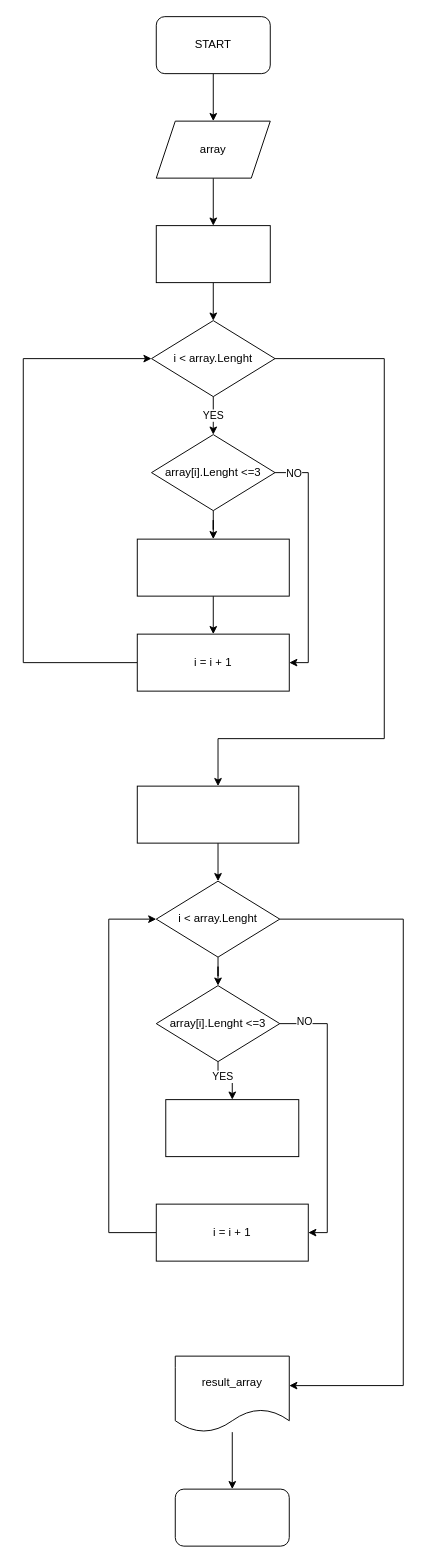
Some shapes in this 428 by 1563 pixel diagram are drawn without their labels. Each missing label, with the centre of its shape:
"count = count + 1" belongs at point (212, 567).
"END" belongs at point (231, 1517).
"Great result_array[count] j = 0 i = 0" belongs at point (217, 814).
"i = 0 count = 0" belongs at point (212, 254).
"result_array[i] = arrai[i] j = j + 1" belongs at point (232, 1128).
